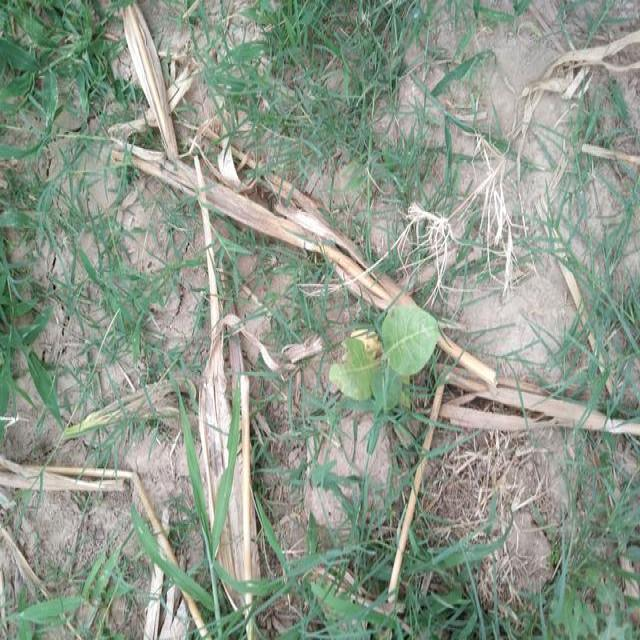crop: (333, 290, 446, 404)
